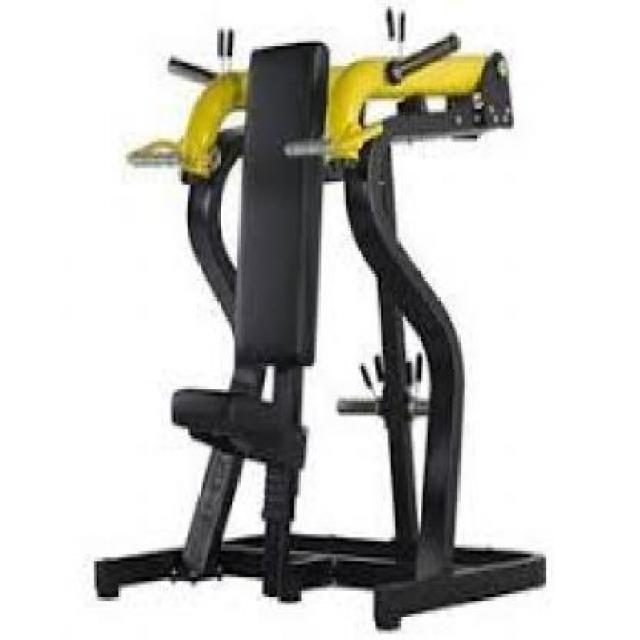shoulder press machine: (84, 2, 554, 636)
